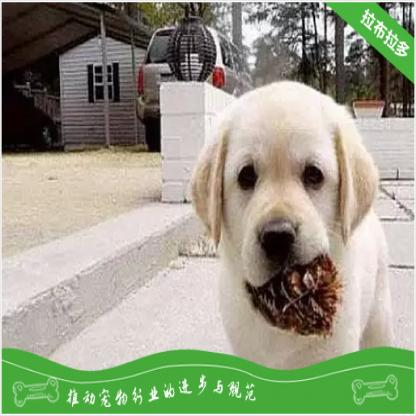Labarador Retriever: (193, 82, 394, 372)
